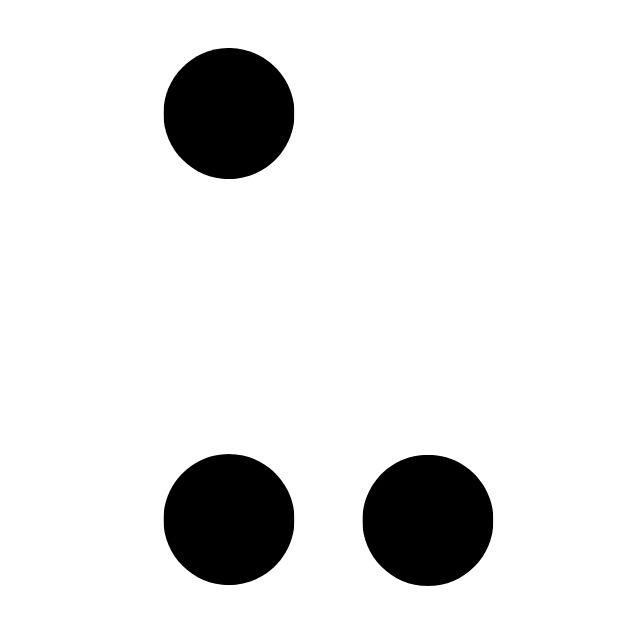u: (164, 50, 494, 585)
